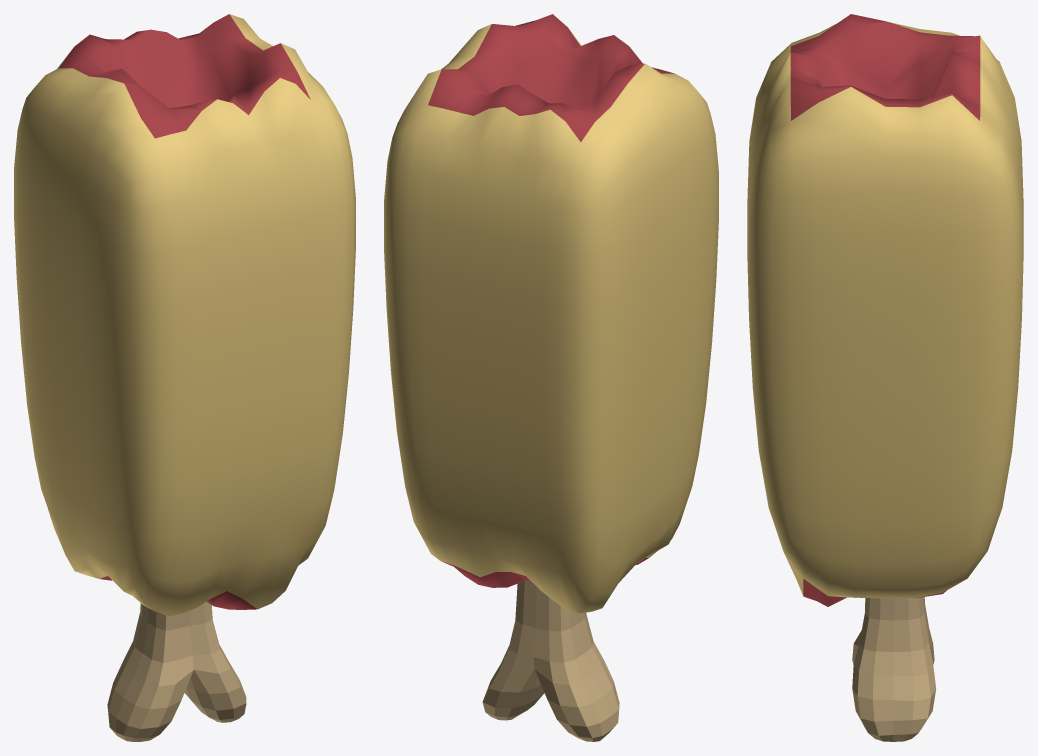
File: LowerLeg_Dism_2.fbx
3 renders of one model, left to right at view 1: azimuth 30°, elevation 25°; view 2: azimuth 150°, elevation 25°; view 3: azimuth 270°, elevation 25°, orthographic. The views are drawn at different scales.
Parts seen in each view (by area): view 1: Bone.004; view 2: Bone.004; view 3: Bone.004.
Boxes of the visible parts, x1,y1,x2,y2 form: Bone.004: [14, 14, 355, 741]; Bone.004: [384, 14, 718, 741]; Bone.004: [747, 14, 1023, 741].
Size of the model in its own units: 73.52 by 195 by 72.79.
